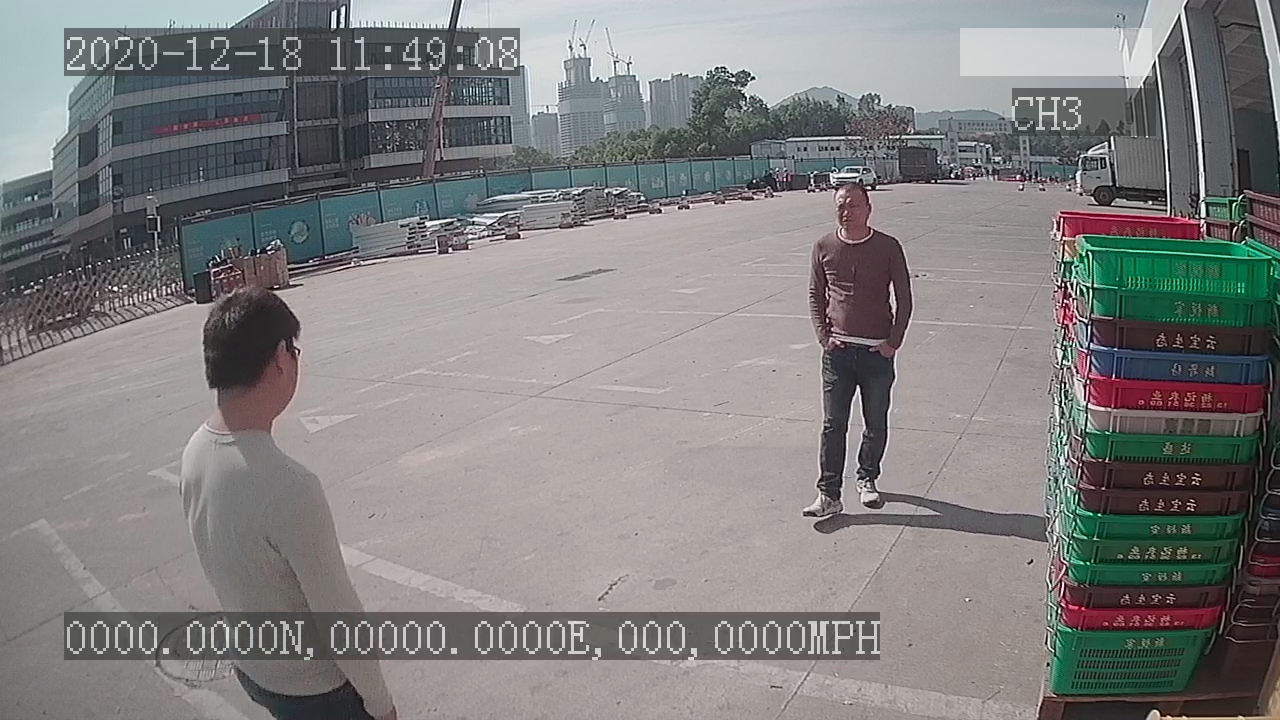person: (797, 179, 917, 524)
